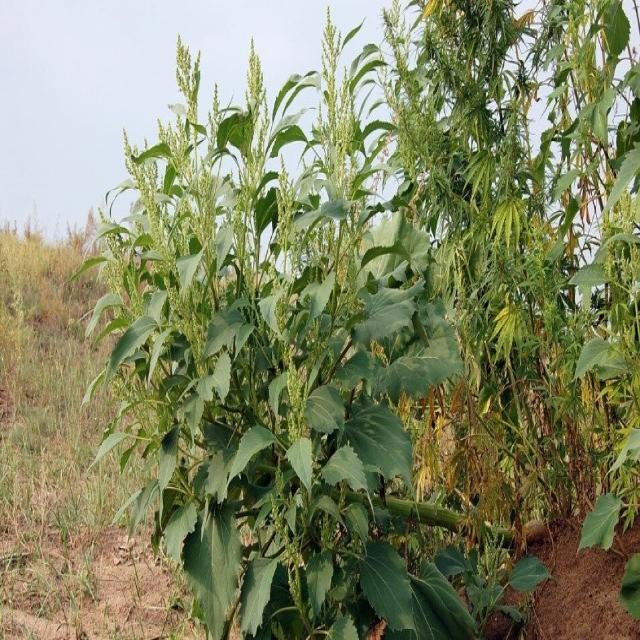ambrosia: (162, 27, 252, 335), (292, 12, 376, 274), (270, 312, 360, 542), (81, 182, 159, 344)
